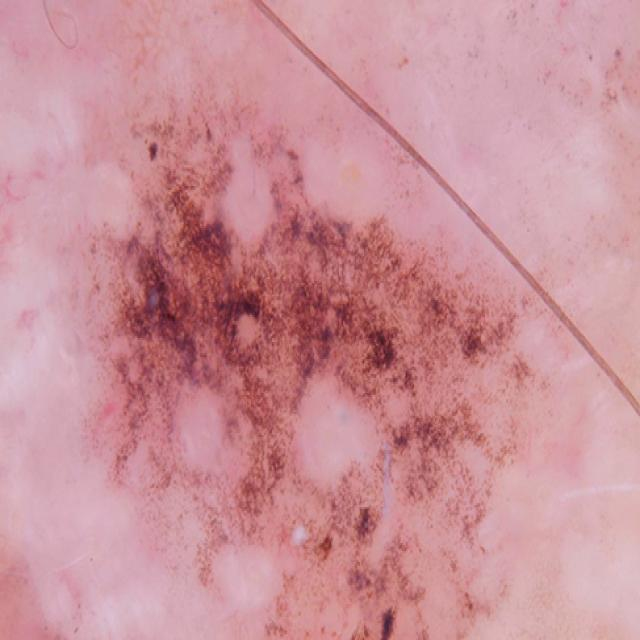Keratosis: (96, 70, 535, 640)
